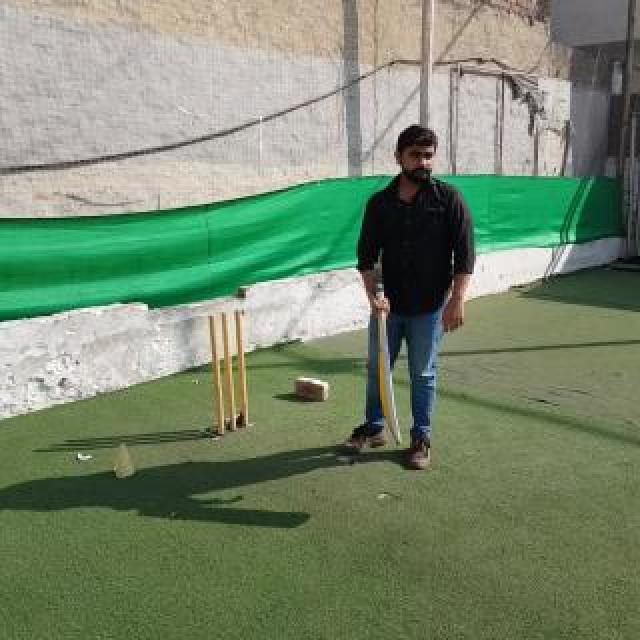bat: (373, 262, 403, 444)
